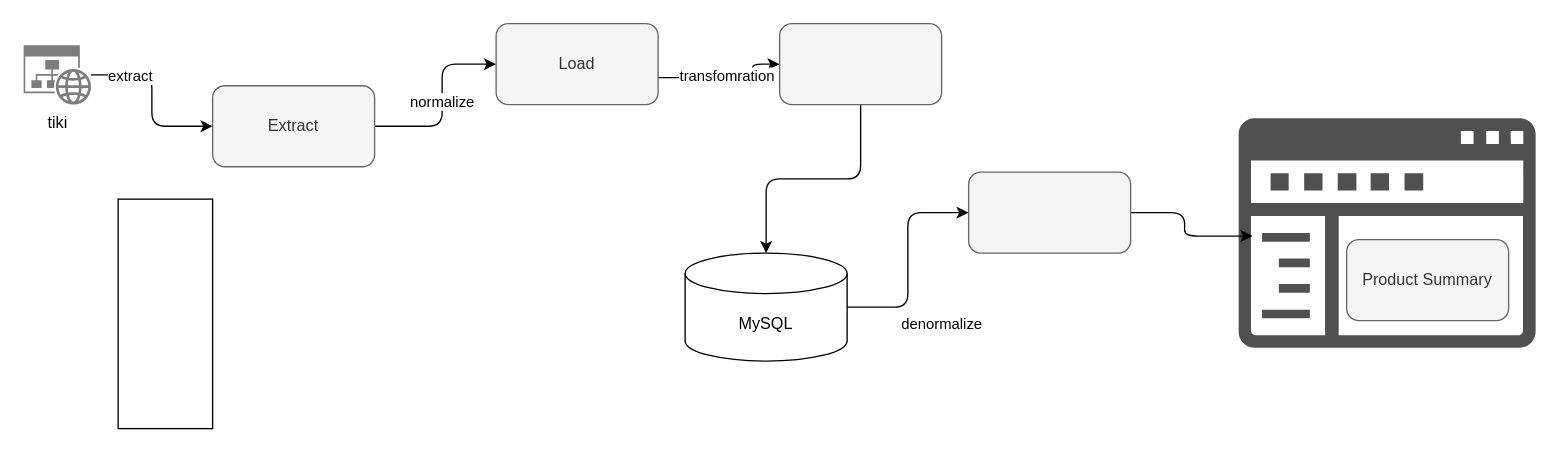
Image size: 1558x452. Some labels were removed from this diagram. Each missing label, with the centre of its shape:
REST API: the point at 1049,212
Transform: the point at 860,63
